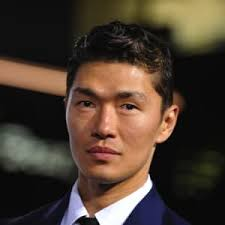asian_male: (56, 84, 168, 179)
